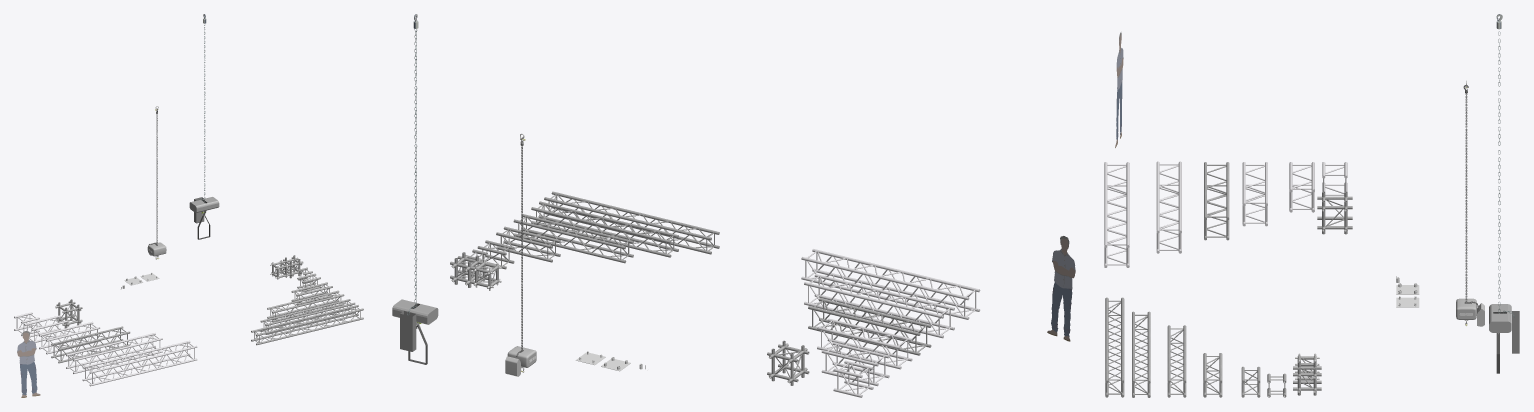
Rendered from Rigging_Truss_Milos-add4954f.glb.
The picture shows the model from 3 angles, left to right: view 1: azimuth 30°, elevation 25°; view 2: azimuth 150°, elevation 25°; view 3: azimuth 270°, elevation 25°; orthographic projection. The views are drawn at different scales.
Parts seen in each view (by area): view 1: Geom3D (×11); view 2: Geom3D (×14); view 3: Geom3D (×13), Geom3D_Hoist#1.
Part boxes in pixels (x1,y1,x2,y2): Geom3D (×11): [20, 197, 363, 394]; Geom3D (×14): [392, 29, 1072, 397]; Geom3D (×13): [1104, 31, 1514, 397]; Geom3D_Hoist#1: [1456, 298, 1476, 319].
Size of what is drawn, in the model's own units: 9.58 by 6.07 by 6.34.
Materials: 27 (4 with a texture image).
